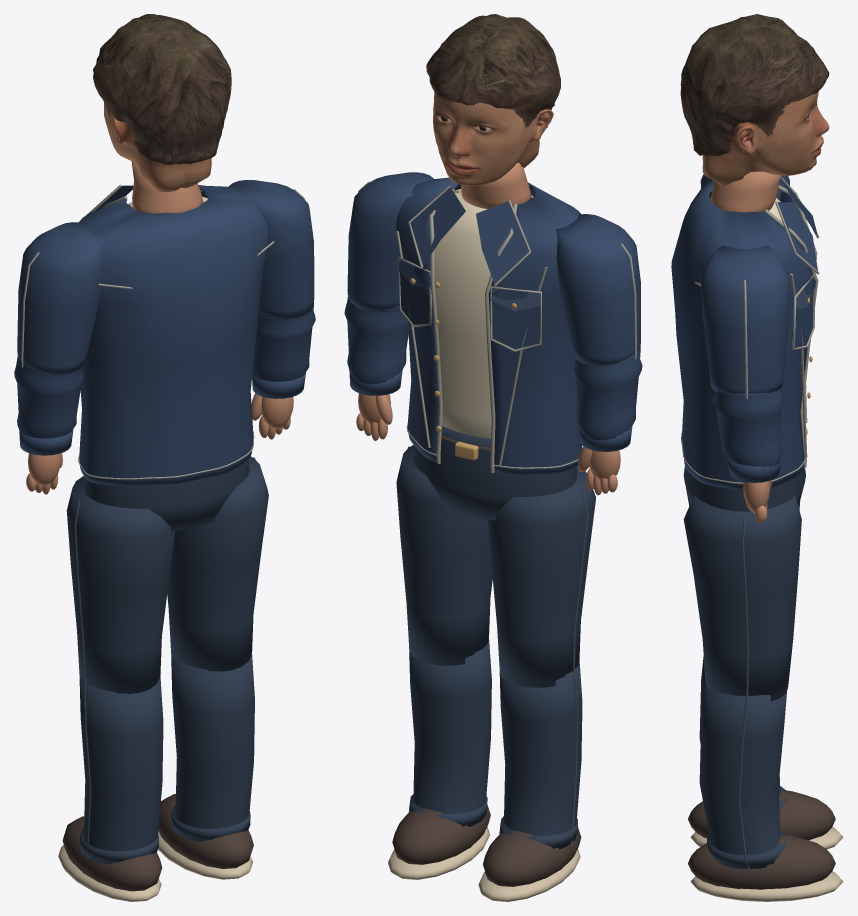
File: rico.glb
3 renders of one model, left to right at view 1: azimuth 30°, elevation 25°; view 2: azimuth 150°, elevation 25°; view 3: azimuth 270°, elevation 25°, orthographic.
Visible parts, largest first — view 1: rico_torso_surface, rico_head_surface, rico_knee_L_surface, rico_knee_R_surface, rico_leg_L_surface, rico_leg_R_surface, rico_arm_L_surface, rico_arm_R_surface, rico_elbow_L_surface, rico_elbow_R_surface; view 2: rico_torso_surface, rico_head_surface, rico_knee_R_surface, rico_knee_L_surface, rico_leg_L_surface, rico_leg_R_surface, rico_arm_L_surface, rico_arm_R_surface, rico_elbow_L_surface, rico_elbow_R_surface; view 3: rico_torso_surface, rico_knee_R_surface, rico_head_surface, rico_leg_R_surface, rico_arm_R_surface, rico_elbow_R_surface, rico_knee_L_surface.
Boxes of the visible parts, <box> form: rico_torso_surface: <box>78,161,274,531</box>; rico_head_surface: <box>93,14,231,192</box>; rico_knee_L_surface: <box>58,676,163,901</box>; rico_knee_R_surface: <box>158,653,254,879</box>; rico_leg_L_surface: <box>66,476,175,694</box>; rico_leg_R_surface: <box>167,456,268,671</box>; rico_arm_L_surface: <box>17,222,104,374</box>; rico_arm_R_surface: <box>229,180,314,319</box>; rico_elbow_L_surface: <box>14,355,86,494</box>; rico_elbow_R_surface: <box>251,304,315,439</box>; rico_torso_surface: <box>396,162,582,520</box>; rico_head_surface: <box>426,14,560,186</box>; rico_knee_R_surface: <box>388,639,491,879</box>; rico_knee_L_surface: <box>478,660,582,901</box>; rico_leg_L_surface: <box>488,466,595,687</box>; rico_leg_R_surface: <box>396,445,492,665</box>; rico_arm_L_surface: <box>556,214,640,366</box>; rico_arm_R_surface: <box>347,172,433,311</box>; rico_elbow_L_surface: <box>572,347,642,495</box>; rico_elbow_R_surface: <box>344,297,408,440</box>; rico_torso_surface: <box>671,171,819,511</box>; rico_knee_R_surface: <box>688,683,843,901</box>; rico_head_surface: <box>680,14,829,185</box>; rico_leg_R_surface: <box>683,495,801,705</box>; rico_arm_R_surface: <box>700,245,789,399</box>; rico_elbow_R_surface: <box>712,386,784,523</box>; rico_knee_L_surface: <box>688,657,843,849</box>.
Bounding box in the file's own units: 0.65 × 1.82 × 0.3348.
17 materials, 3 textured.
